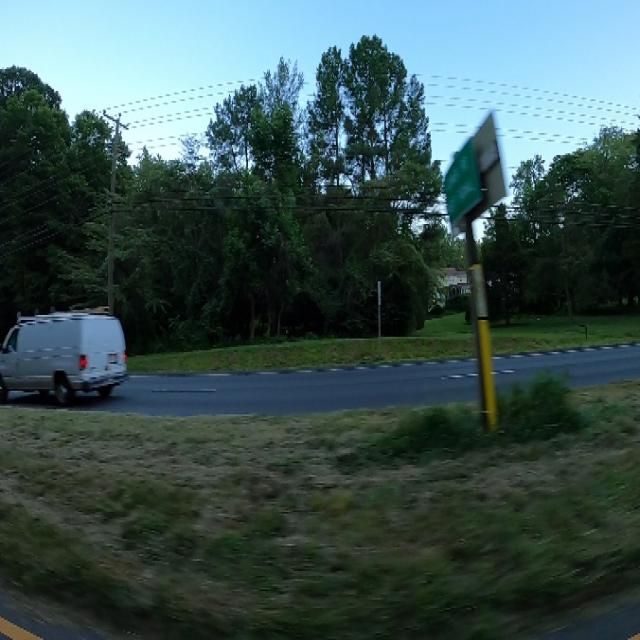car: (0, 282, 133, 402)
